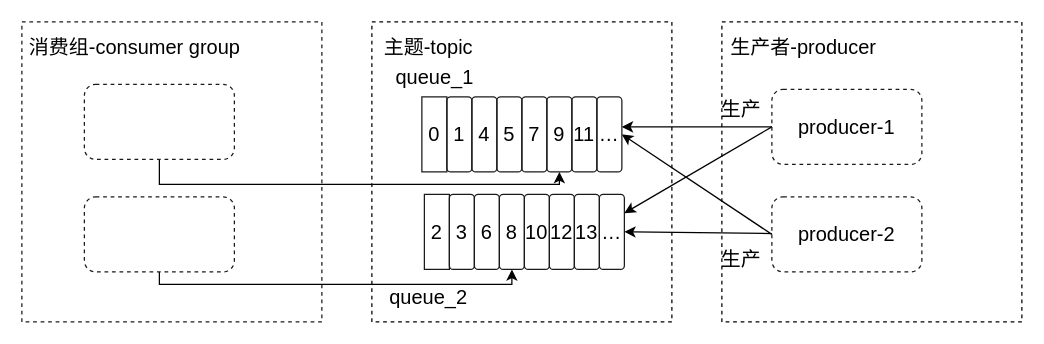
Some shapes in this 1044 by 344 pixel diagram are drawn without their labels. The shapes that lost their labels are listed below. From the top down, each one's centre as x and y in pixels, then its label:
point 158,121: consumer-1
point 158,234: consumer-2
